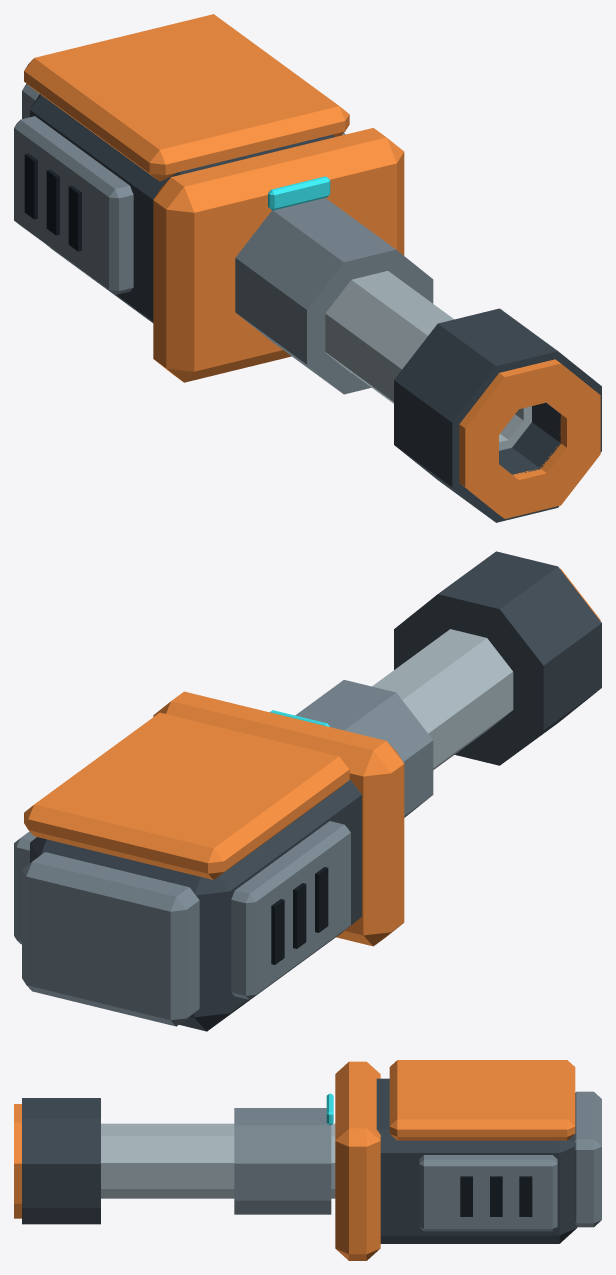
File: TurretBarrel.obj
3 renders of one model, top to bottom at view 1: azimuth 30°, elevation 25°; view 2: azimuth 150°, elevation 25°; view 3: azimuth 270°, elevation 25°, orthographic. The views are drawn at different scales.
Parts seen in each view (by area): view 1: TurretBarrel; view 2: TurretBarrel; view 3: TurretBarrel.
Part boxes in pixels (left/top/right/bottom): TurretBarrel: left=14, top=14, right=601, bottom=522; TurretBarrel: left=14, top=551, right=601, bottom=1031; TurretBarrel: left=14, top=1060, right=601, bottom=1260.
Size of the model in its own units: 0.989 by 0.77 by 2.97.
6 materials, 6 textured.
